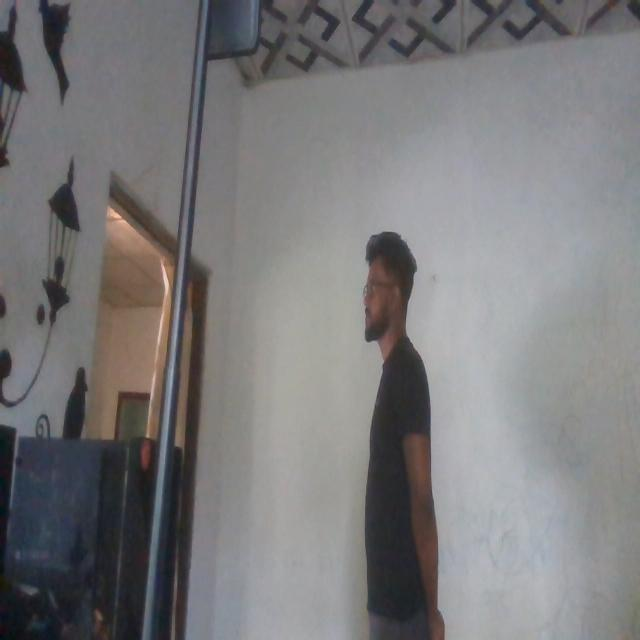Person: (344, 219, 473, 640)
